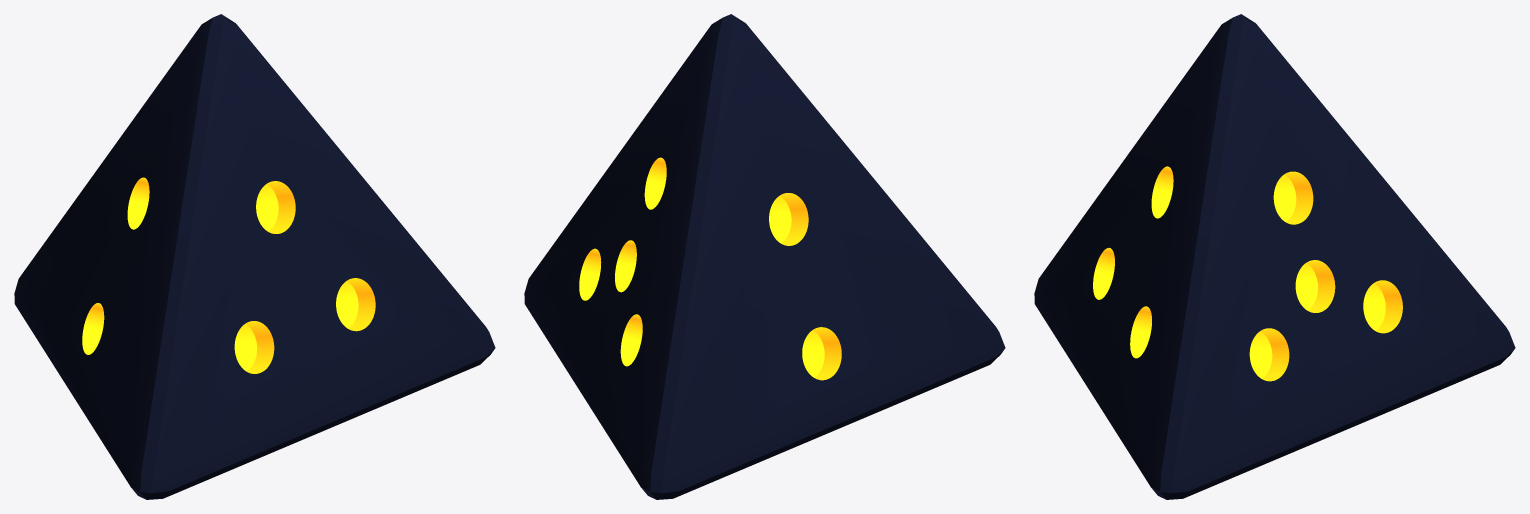
The picture shows the model from 3 angles, left to right: view 1: azimuth 30°, elevation 25°; view 2: azimuth 150°, elevation 25°; view 3: azimuth 270°, elevation 25°; orthographic projection.
Visible parts, largest first — view 1: MP_D4; view 2: MP_D4; view 3: MP_D4.
Boxes of the visible parts, left/top/right/bottom form: MP_D4: left=14, top=14, right=495, bottom=499; MP_D4: left=524, top=14, right=1005, bottom=499; MP_D4: left=1034, top=14, right=1515, bottom=499.
Size of the model in its own units: 1 by 0.8606 by 1.
